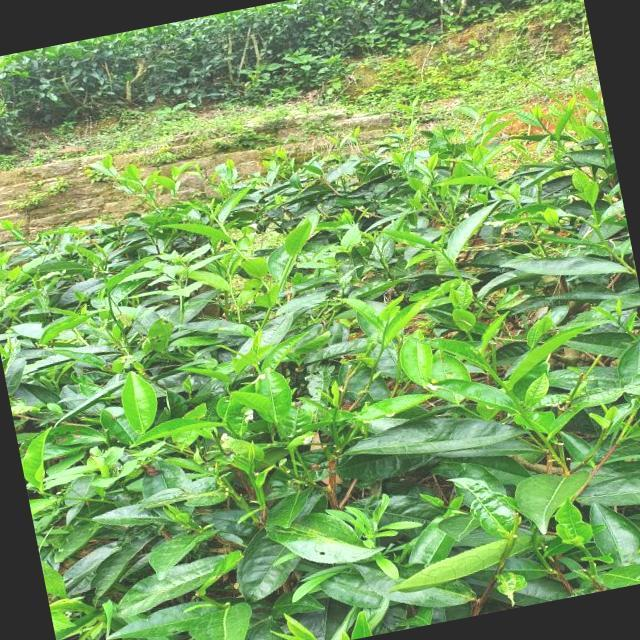Stem: (594, 227, 603, 238), (487, 367, 496, 377), (441, 252, 448, 259), (220, 224, 226, 232), (557, 140, 563, 147), (381, 347, 385, 353)
